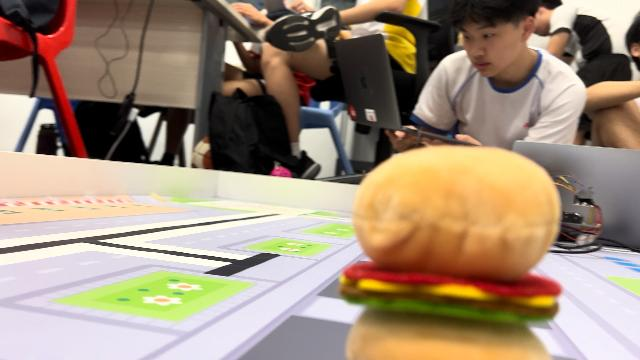burger: (350, 142, 562, 282)
